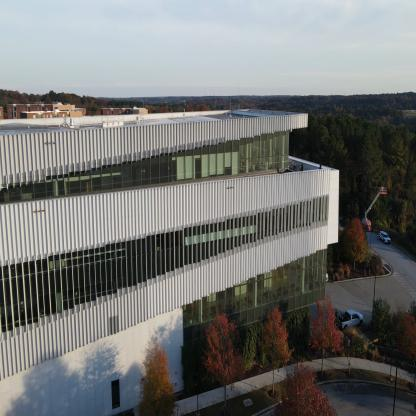Hunt Library: (0, 90, 340, 415)
